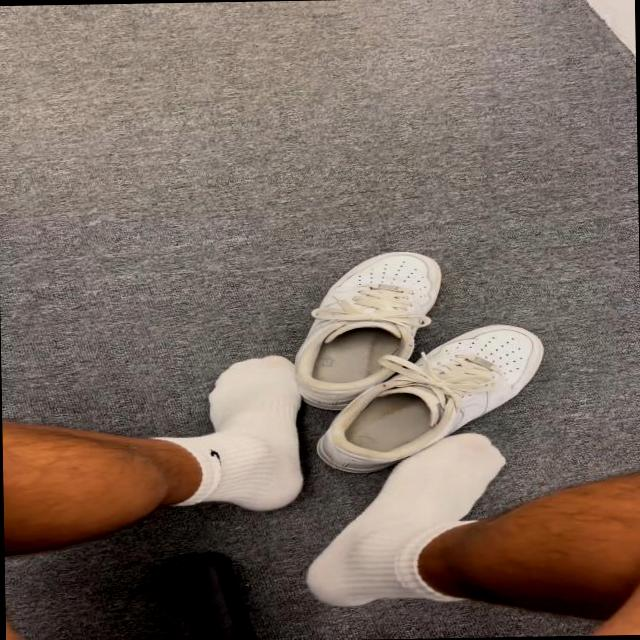nike_original_airforce: (312, 323, 552, 478), (289, 248, 454, 422)
